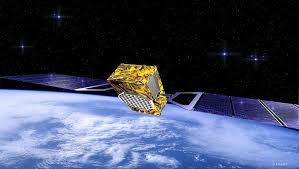body: (105, 61, 170, 118)
solar: (190, 91, 299, 131), (0, 69, 109, 92)
